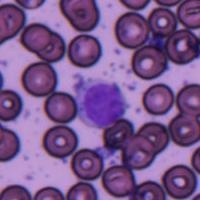L: (76, 78, 127, 128)
